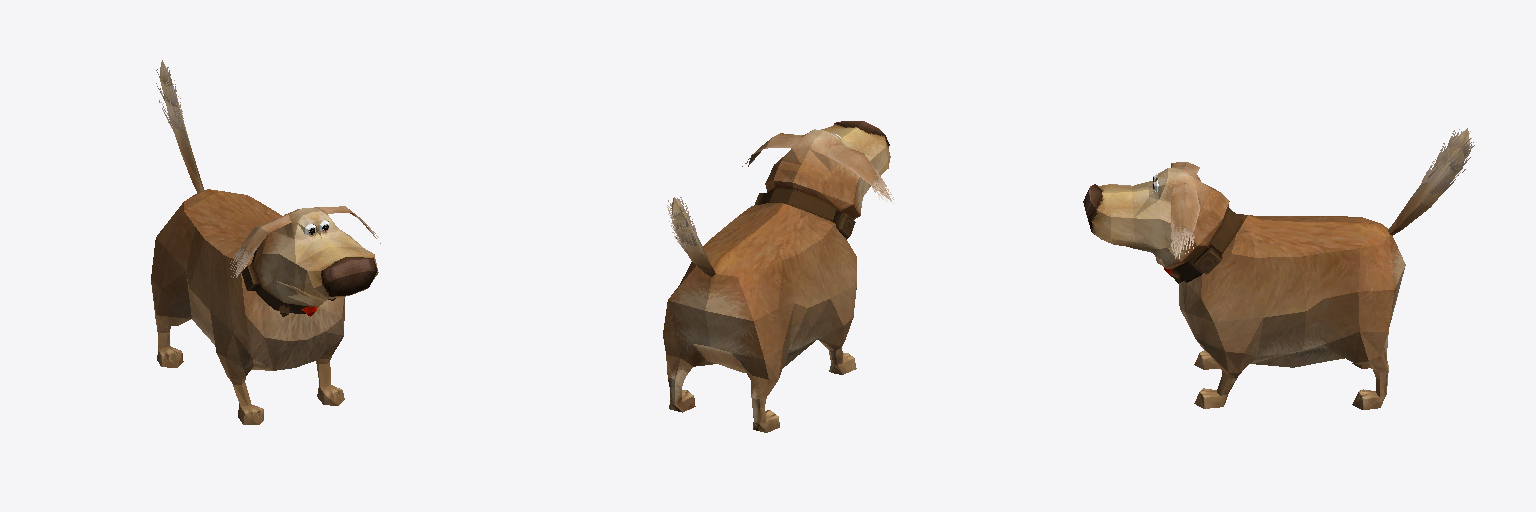
3 views of the same model, side by side, from view 1: azimuth 30°, elevation 25°; view 2: azimuth 150°, elevation 25°; view 3: azimuth 270°, elevation 25° (orthographic).
Visible parts, largest first — view 1: Body, Head, Hair; view 2: Body, Head, Hair; view 3: Body, Head, Hair.
Boxes of the visible parts, x1=… form: Body: x1=151, y1=60, x2=344, y2=424; Head: x1=236, y1=206, x2=380, y2=316; Hair: x1=156, y1=67, x2=378, y2=277; Body: x1=663, y1=134, x2=856, y2=432; Head: x1=748, y1=121, x2=891, y2=239; Hair: x1=667, y1=158, x2=893, y2=251; Body: x1=1153, y1=128, x2=1469, y2=409; Head: x1=1083, y1=162, x2=1242, y2=283; Hair: x1=1171, y1=129, x2=1474, y2=258.
Size of the model in its own units: 0.7 by 1.1 by 1.52.
Materials: 3 (3 with a texture image).